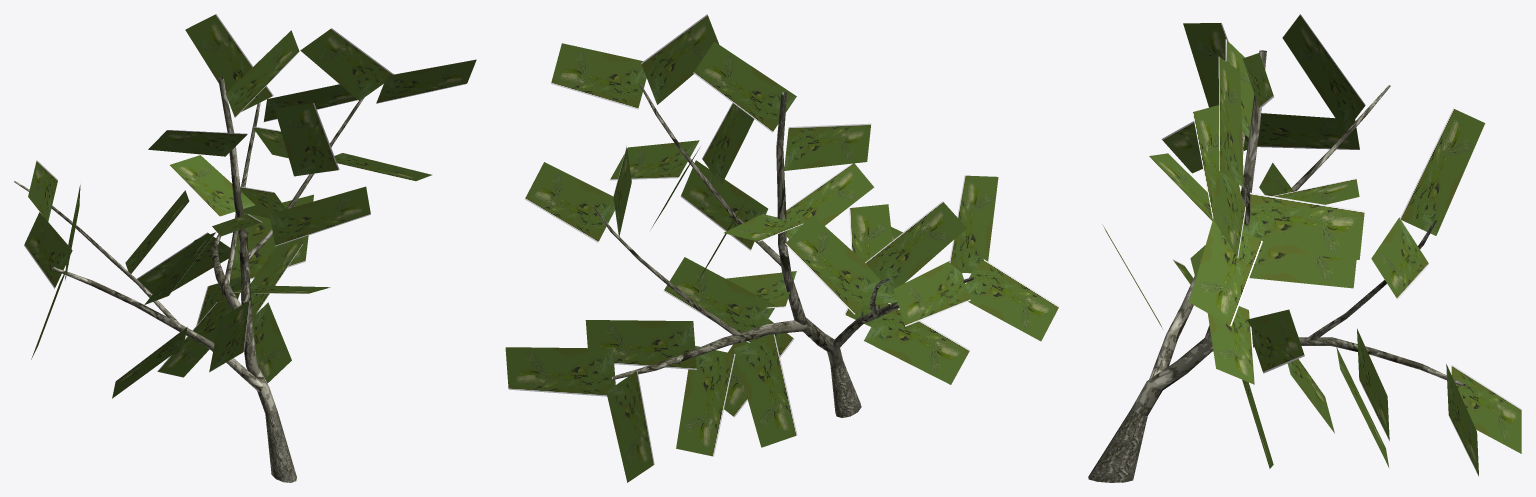
File: Branch03.fbx
3 renders of one model, left to right at view 1: azimuth 30°, elevation 25°; view 2: azimuth 150°, elevation 25°; view 3: azimuth 270°, elevation 25°, orthographic. The views are drawn at different scales.
Parts seen in each view (by area): view 1: Branch03, Object001; view 2: Branch03, Object001; view 3: Branch03, Object001.
Part boxes in pixels (x1=…): Branch03: x1=14, y1=14, x2=476, y2=413; Object001: x1=265, y1=411, x2=296, y2=482; Branch03: x1=505, y1=14, x2=1059, y2=482; Object001: x1=830, y1=361, x2=861, y2=417; Branch03: x1=1102, y1=14, x2=1521, y2=476; Object001: x1=1088, y1=408, x2=1147, y2=482.
Bounding box in the file's own units: 142 × 116 × 95.58.
